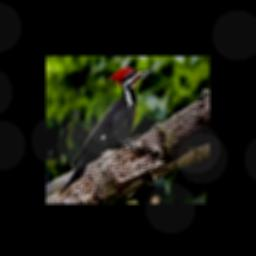Woodpecker: (61, 66, 155, 192)
